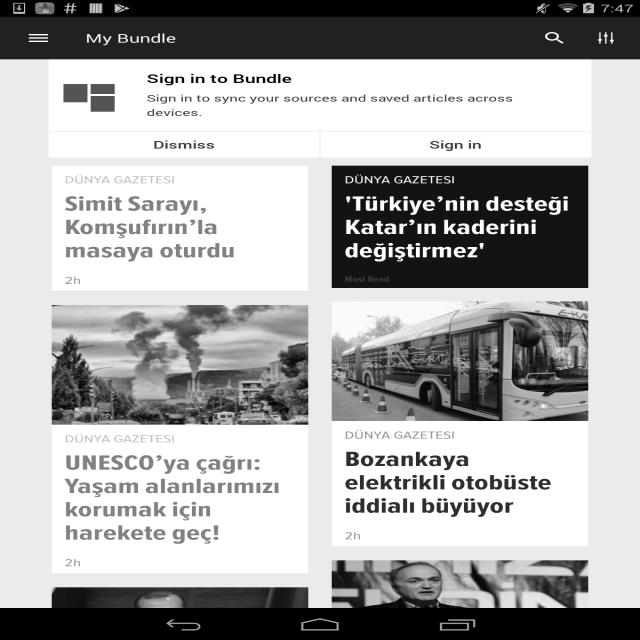ImageButton: (9, 17, 68, 59)
ImageView: (52, 305, 308, 425), (332, 301, 588, 421), (332, 560, 588, 640), (52, 587, 308, 640), (57, 78, 121, 118), (49, 131, 592, 132), (320, 130, 320, 163)
TextView: (52, 446, 308, 554), (52, 186, 308, 271), (332, 186, 588, 271), (332, 442, 588, 526), (130, 92, 583, 120), (332, 421, 571, 442), (52, 166, 291, 186), (332, 166, 571, 186), (52, 425, 291, 445), (130, 70, 308, 86), (580, 22, 632, 54), (529, 22, 580, 54), (85, 30, 176, 46), (332, 271, 389, 288), (153, 137, 215, 152), (429, 137, 482, 152), (52, 271, 81, 291), (52, 554, 81, 574), (332, 526, 361, 546)
